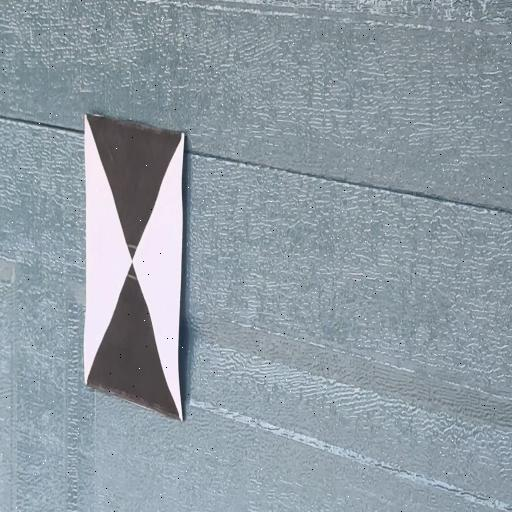target: (84, 114, 184, 420)
